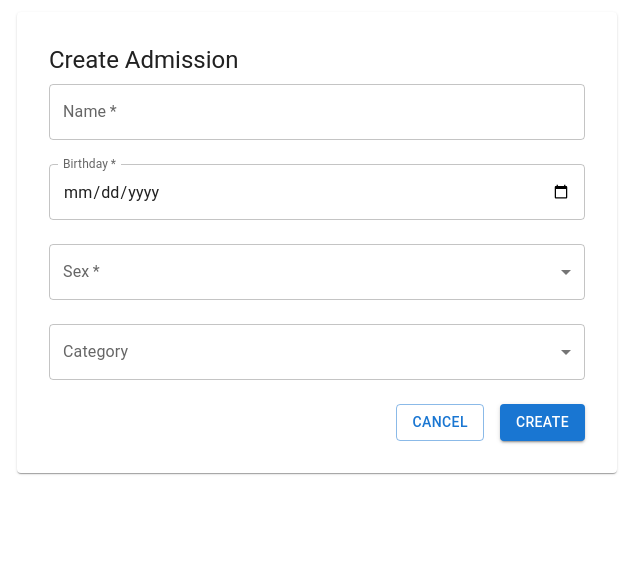
Test case: AdmissionForm › shows error for future birthday
Type "Test User" into the field with test id "name-input" at (317, 112), box 49,84 -> 585,140
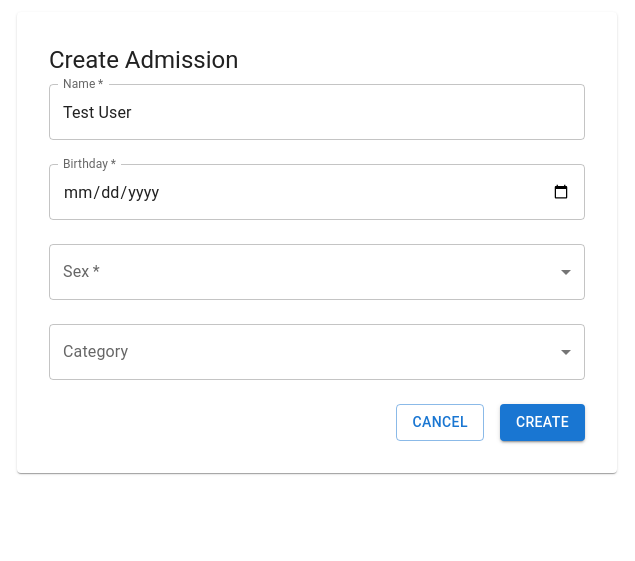
Type "2099-01-01" into the date field with test id "birthday-input" at (317, 192), box 49,164 -> 585,220
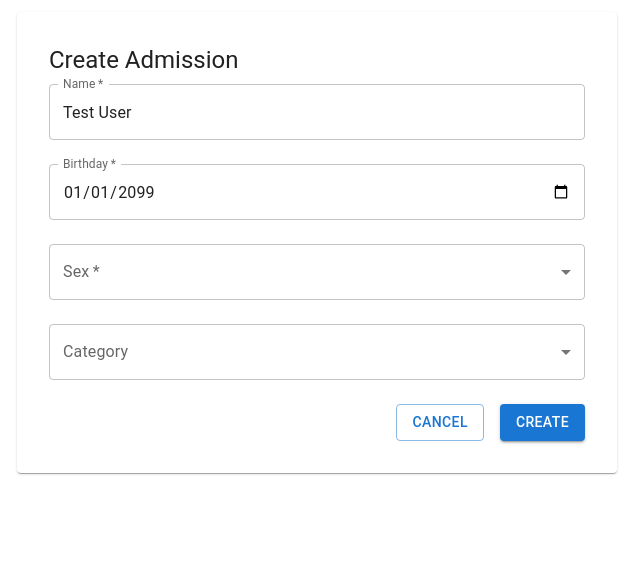
Click the button with test id "submit-button" at (542, 423), box 500,404 -> 585,441
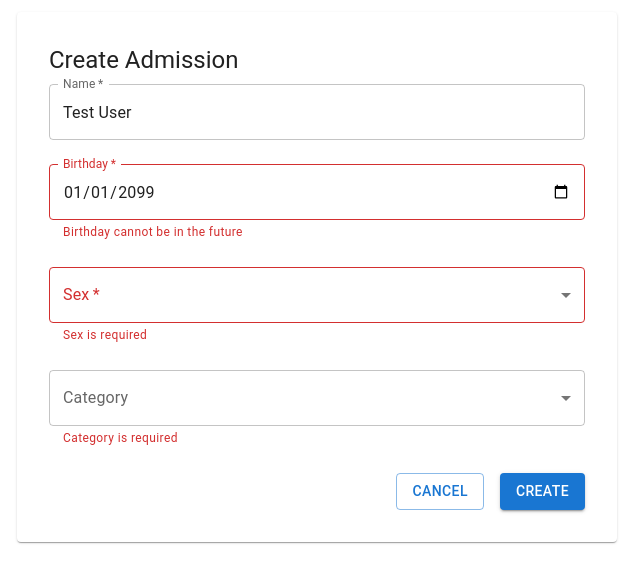
Check: the text "Birthday cannot be in the future" is shown, box 63,225 -> 243,239
